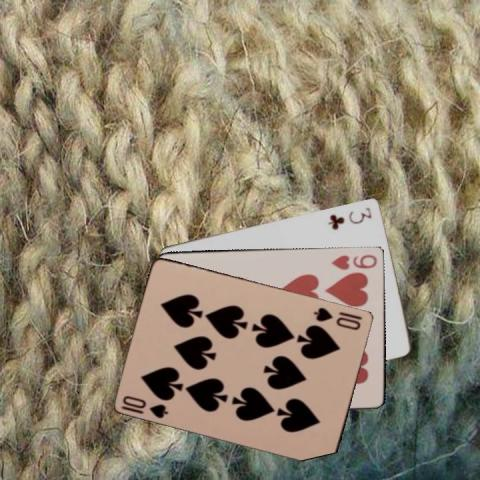10s: (311, 304, 363, 331), (120, 392, 170, 419)
3c: (326, 204, 374, 231)
9h: (328, 252, 378, 272)
